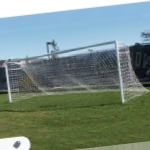goals: (4, 39, 150, 106)
